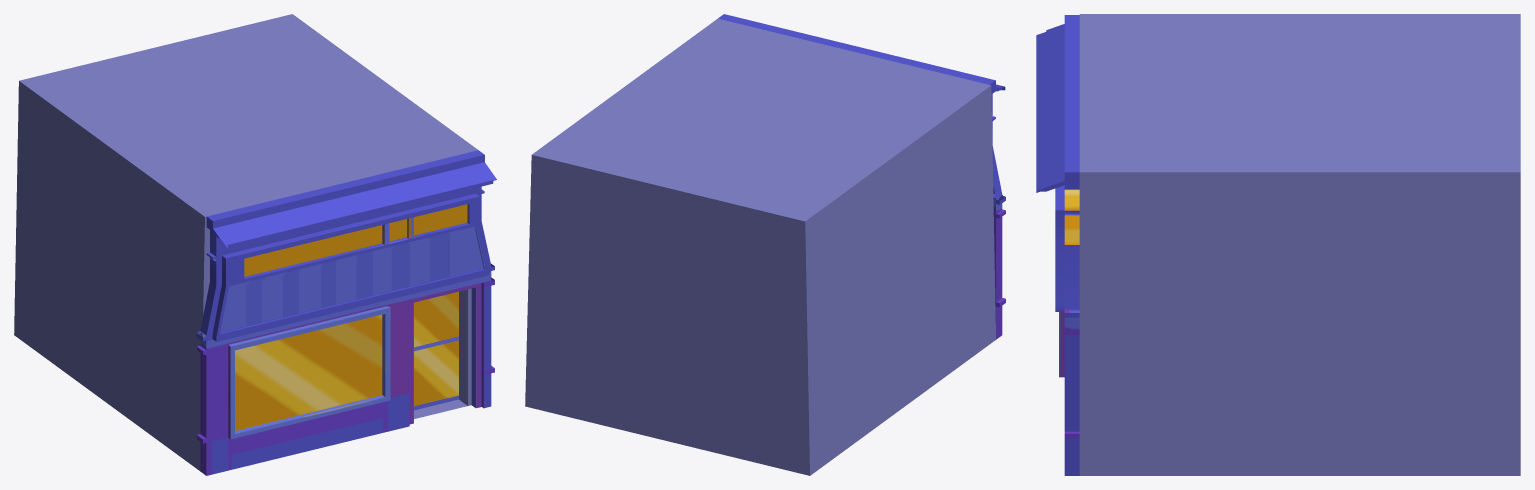
Rendered from Adam_Building_7.fbx.
3 views of the same model, side by side, from view 1: azimuth 30°, elevation 25°; view 2: azimuth 150°, elevation 25°; view 3: azimuth 270°, elevation 25° (orthographic). The views are drawn at different scales.
Parts seen in each view (by area): view 1: Adam_Building_7:Inside_Building3, Adam_Building_7:polySurface2; view 2: Adam_Building_7:Inside_Building3, Adam_Building_7:polySurface2; view 3: Adam_Building_7:Inside_Building3, Adam_Building_7:polySurface2.
Part boxes in pixels (x1,y1,x2,y2): Adam_Building_7:Inside_Building3: (14, 14, 478, 470); Adam_Building_7:polySurface2: (196, 150, 496, 475); Adam_Building_7:Inside_Building3: (525, 18, 995, 475); Adam_Building_7:polySurface2: (718, 14, 1005, 339); Adam_Building_7:Inside_Building3: (1079, 14, 1520, 475); Adam_Building_7:polySurface2: (1036, 15, 1079, 475).
Size of the model in its own units: 5.84 by 4.84 by 7.07.
Materials: 2 (1 with a texture image).
